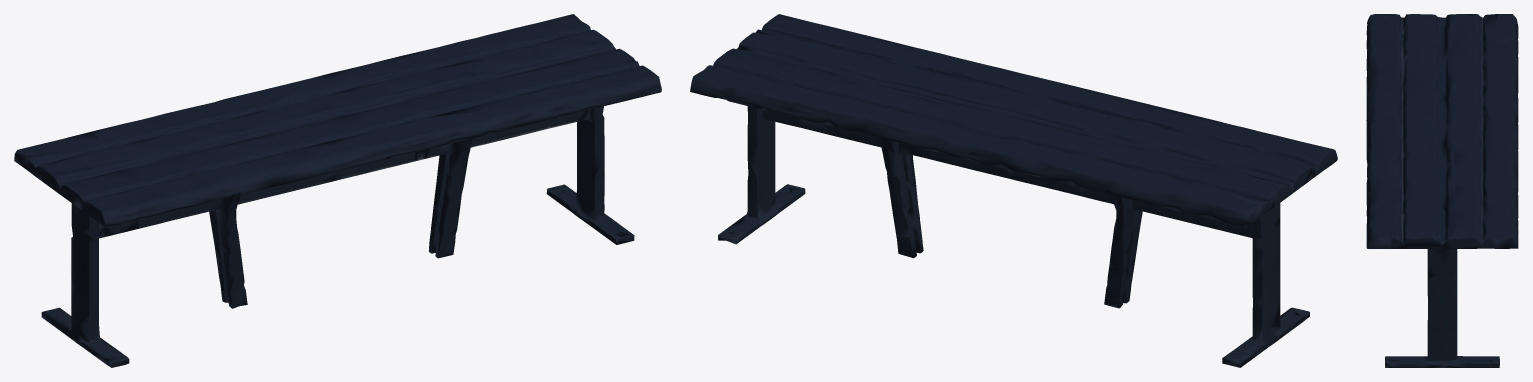
File: bench_p.glb
3 views of the same model, side by side, from view 1: azimuth 30°, elevation 25°; view 2: azimuth 150°, elevation 25°; view 3: azimuth 270°, elevation 25° (orthographic). The views are drawn at different scales.
Bounding box in the file's own units: 1.9 × 0.5419 × 0.5448.
Materials: 1 (1 with a texture image).
